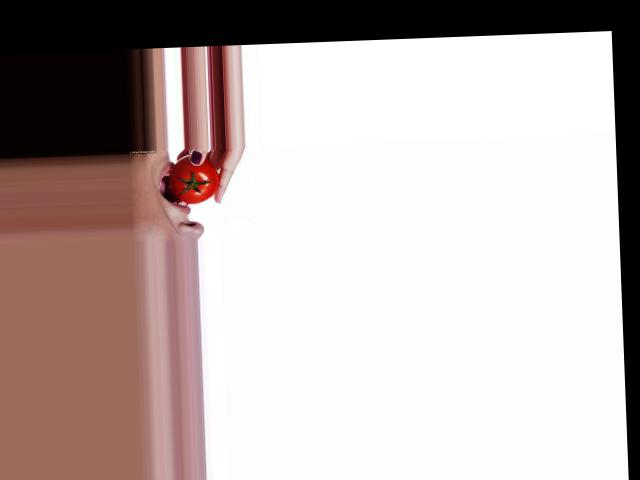tomato: (169, 153, 220, 204)
